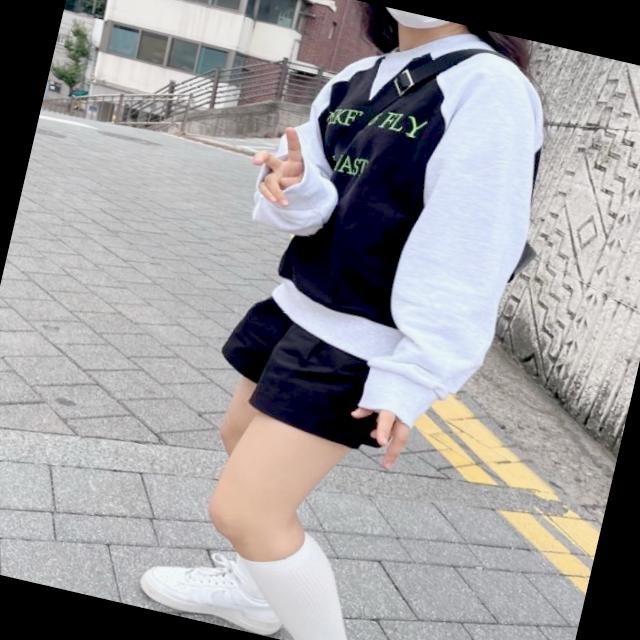mtm: (200, 0, 573, 450)
shortpants: (203, 286, 418, 462)
